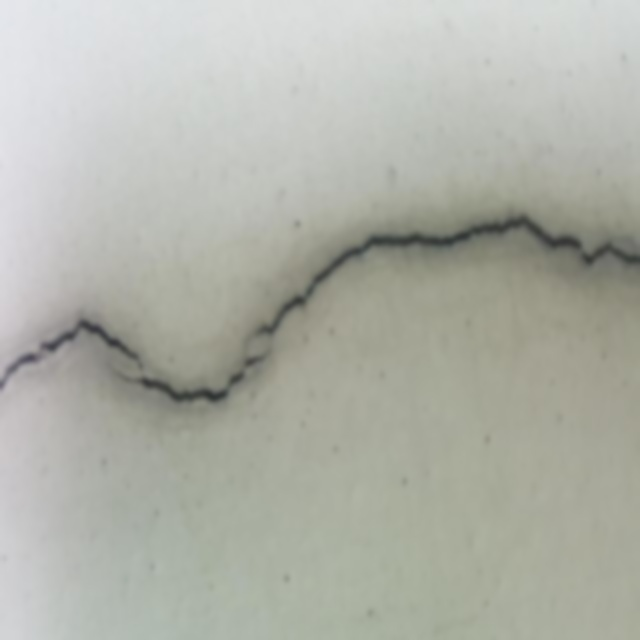SurfaceCrack: (0, 181, 639, 441)
